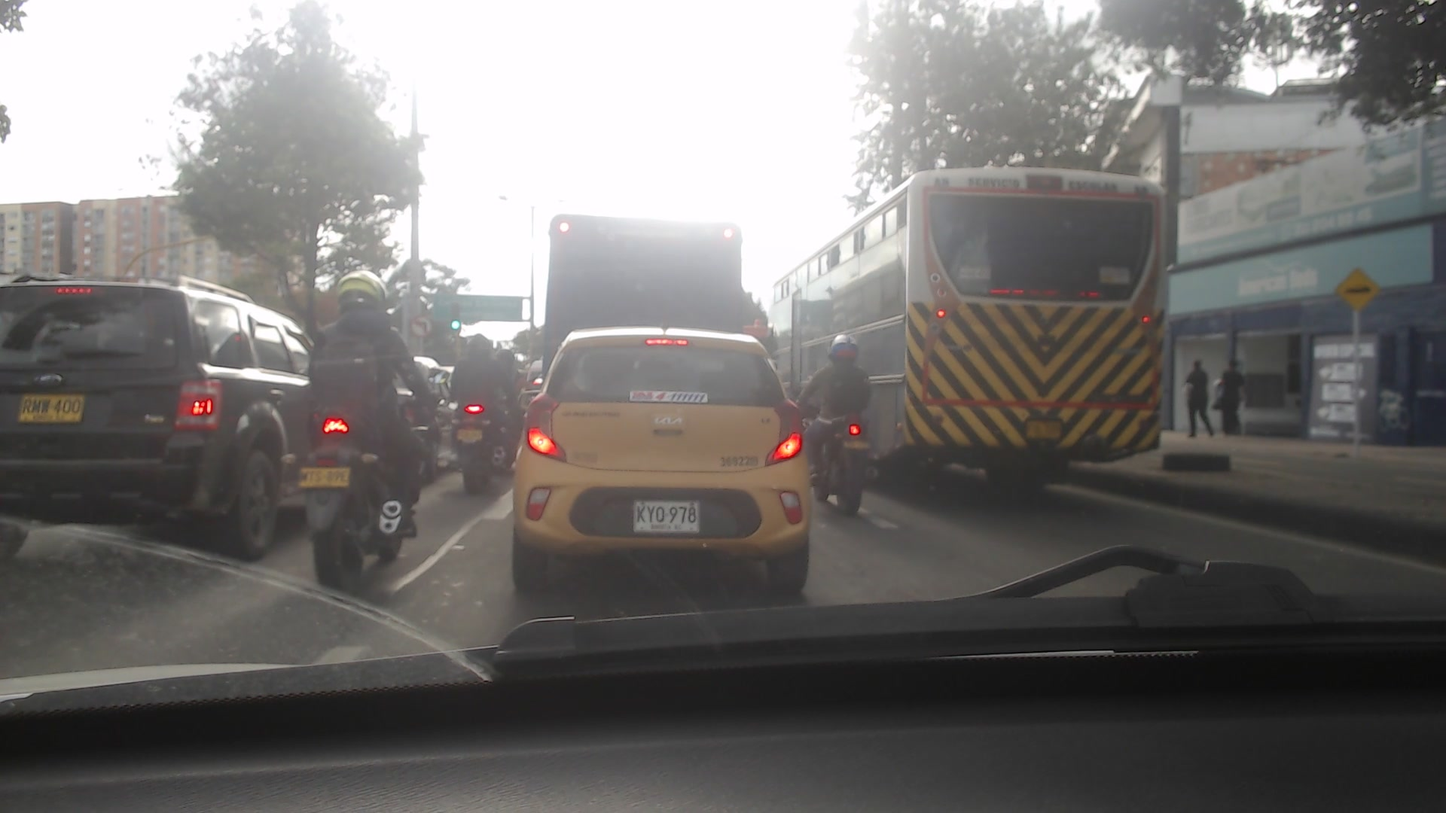bus: (768, 172, 1166, 508)
car: (0, 268, 307, 546), (510, 329, 811, 592)
motorcycle: (285, 407, 435, 586), (799, 405, 872, 511), (446, 399, 509, 497)
person: (306, 270, 433, 521), (800, 333, 882, 439), (449, 325, 517, 423), (1182, 357, 1216, 437), (1213, 358, 1245, 436)
truck: (541, 213, 751, 338)
